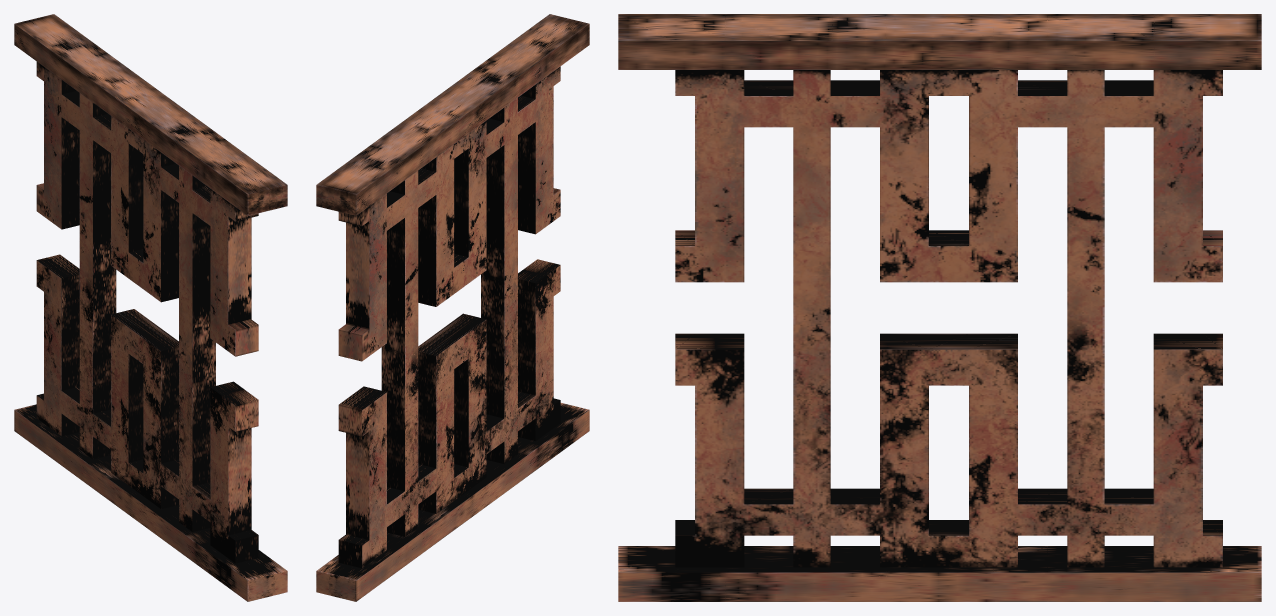
Rendered from Pared_01.fbx.
3 renders of one model, left to right at view 1: azimuth 30°, elevation 25°; view 2: azimuth 150°, elevation 25°; view 3: azimuth 270°, elevation 25°, orthographic. The views are drawn at different scales.
Visible parts, largest first — view 1: Cube.021; view 2: Cube.021; view 3: Cube.021.
Part boxes in pixels (x1,y1,x2,y2): Cube.021: (14,14,287,601); Cube.021: (316,14,589,601); Cube.021: (618,14,1261,601).
Size of the model in its own units: 60.28 by 587 by 610.
